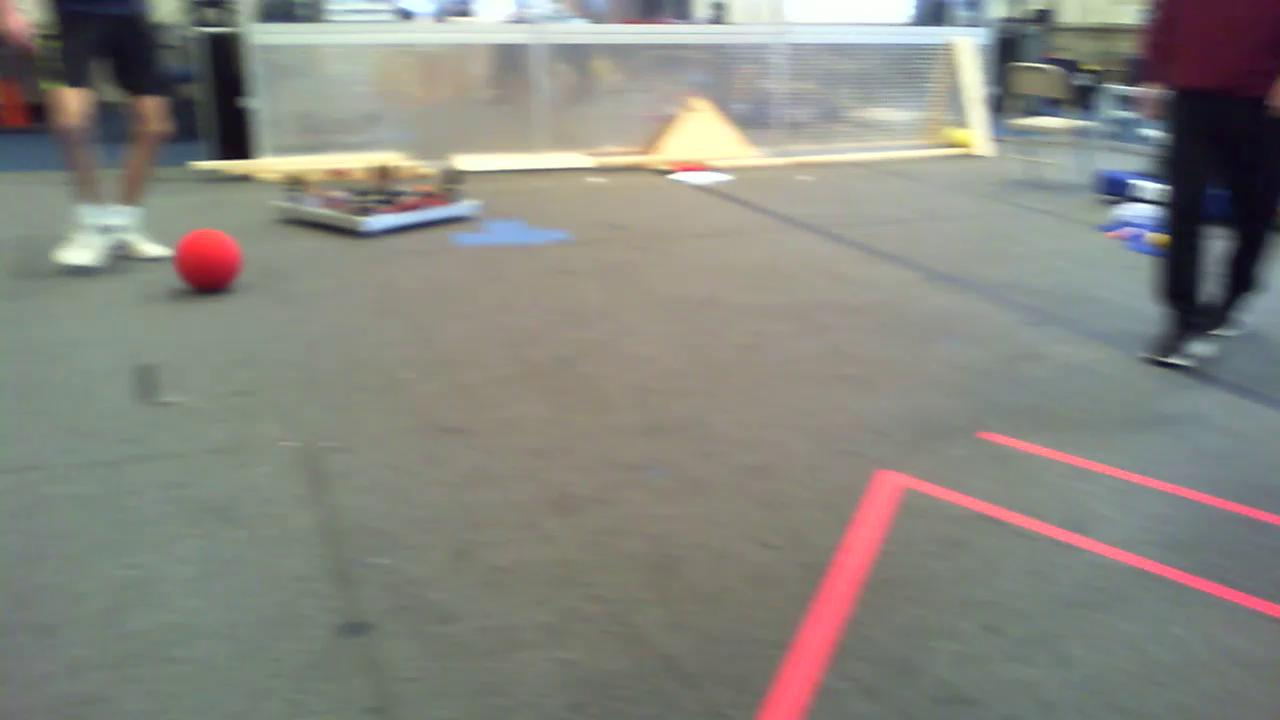Red_Ball: (162, 228, 250, 296)
